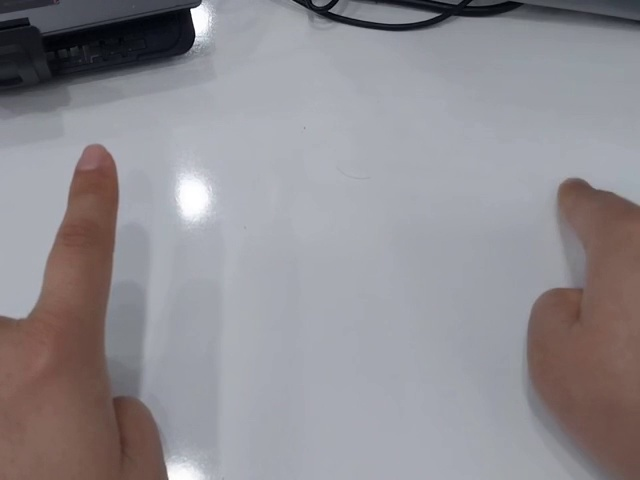fingers: (71, 142, 119, 194), (555, 176, 598, 221)
